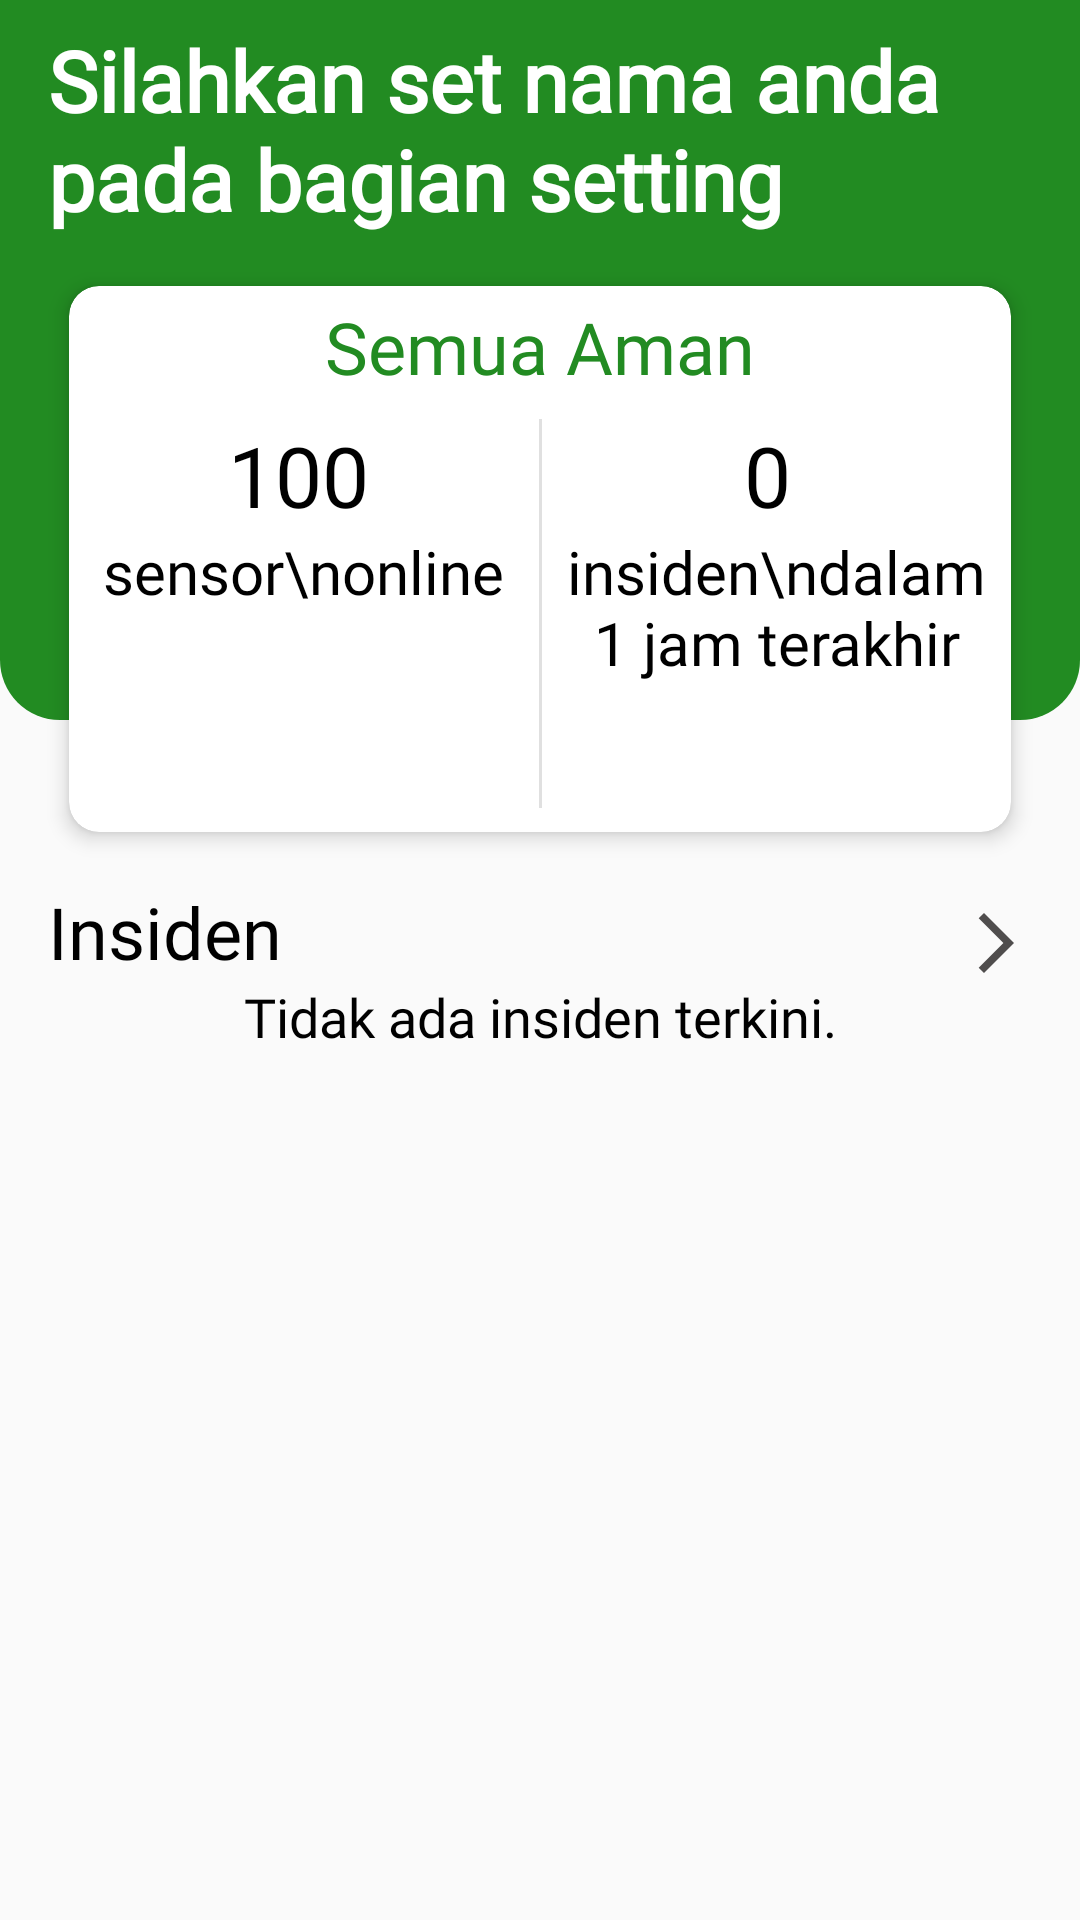

Named icons in this screenshot (1080w x 1920h) and their centers, (x=x, y=y):
arrow forward: (x=996, y=943)
